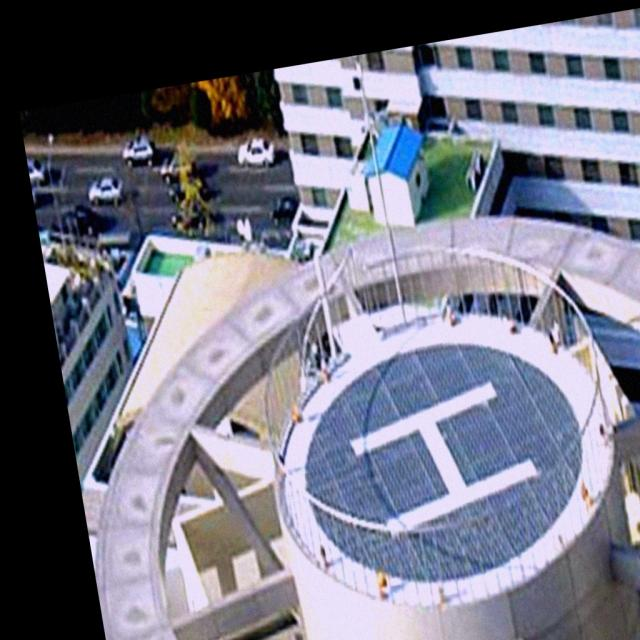helipad: (270, 313, 616, 610)
